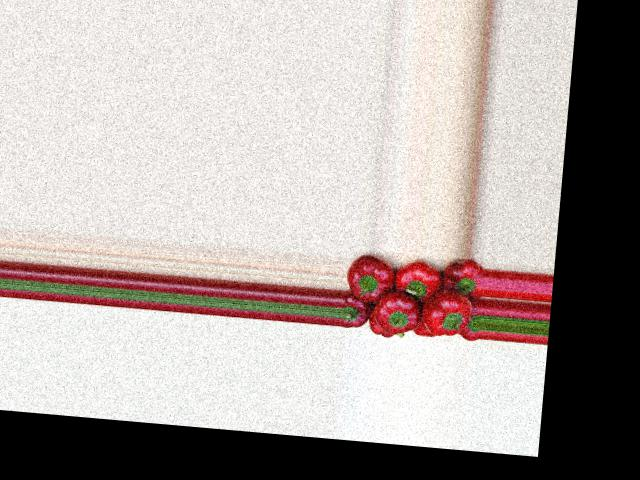bell_pepper: (412, 318, 433, 339)
